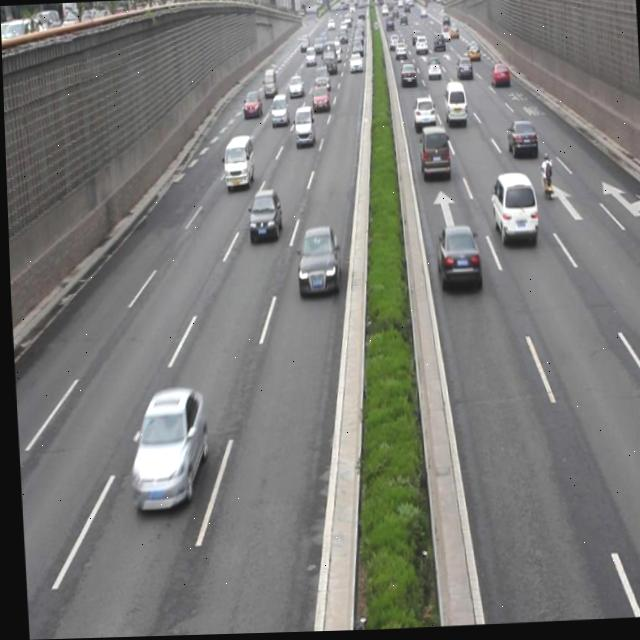car: (125, 382, 205, 512), (292, 225, 338, 300), (432, 224, 478, 289), (244, 188, 280, 243), (504, 121, 536, 162), (410, 96, 435, 128), (241, 91, 261, 118)
truck: (488, 171, 536, 247), (416, 123, 447, 182), (221, 135, 253, 191), (441, 82, 466, 127), (290, 107, 314, 148), (269, 94, 287, 128)
